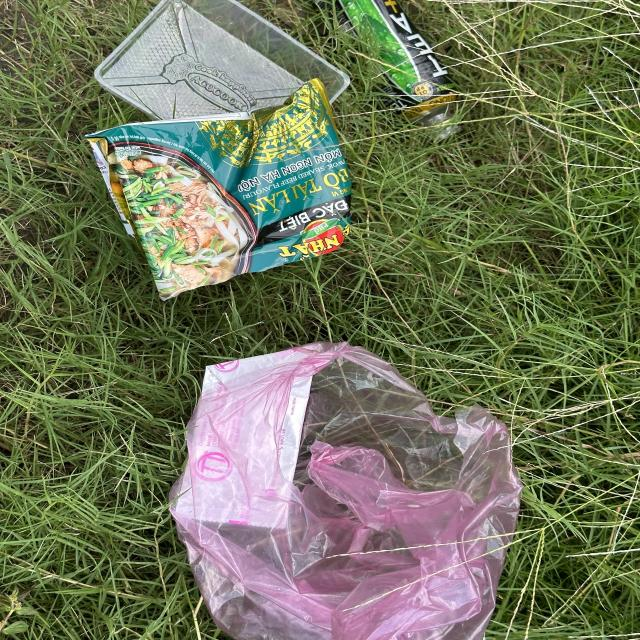bag: (169, 339, 522, 640)
bottle: (332, 0, 462, 144)
plastic holder: (94, 0, 349, 120)
snack package: (86, 78, 352, 302)
